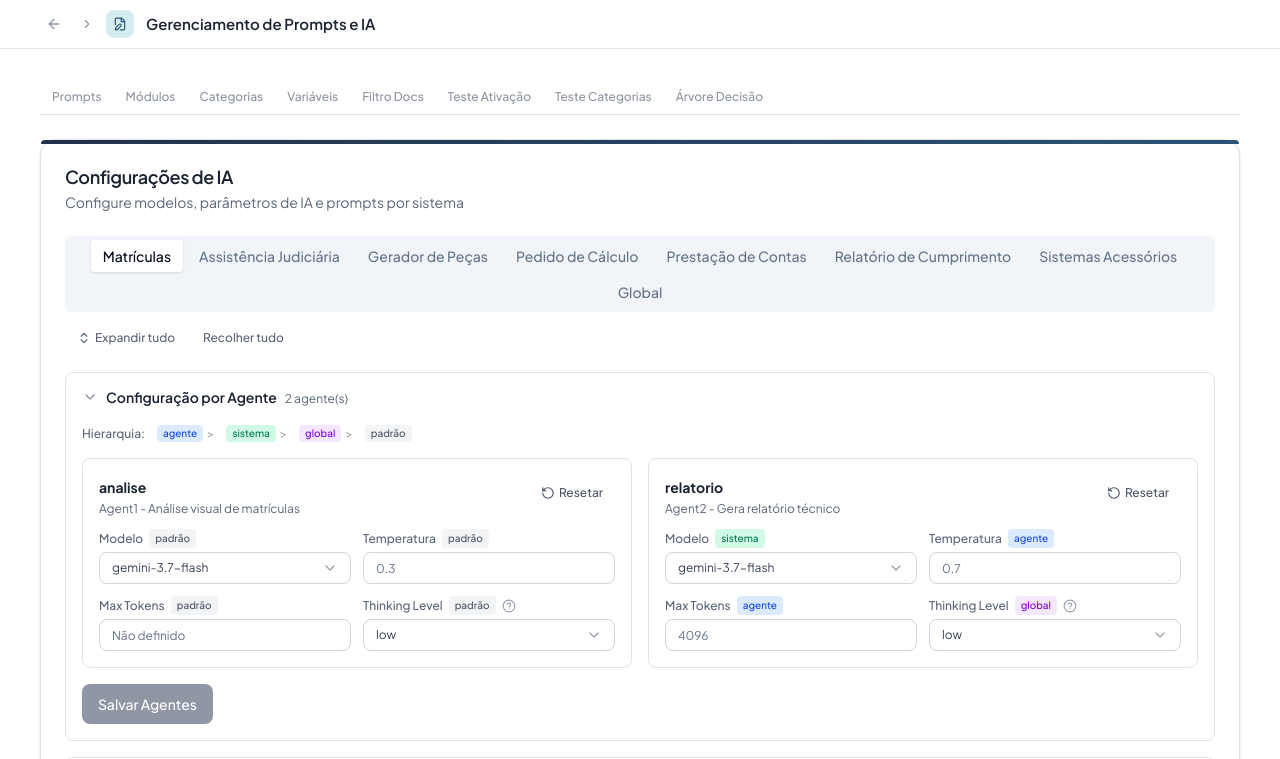
PromptsPage › não deve exibir seção de agentes na aba Global
This screenshot has width=1280, height=759.
Click the tab "Global": click(640, 292) [606, 276, 674, 308]
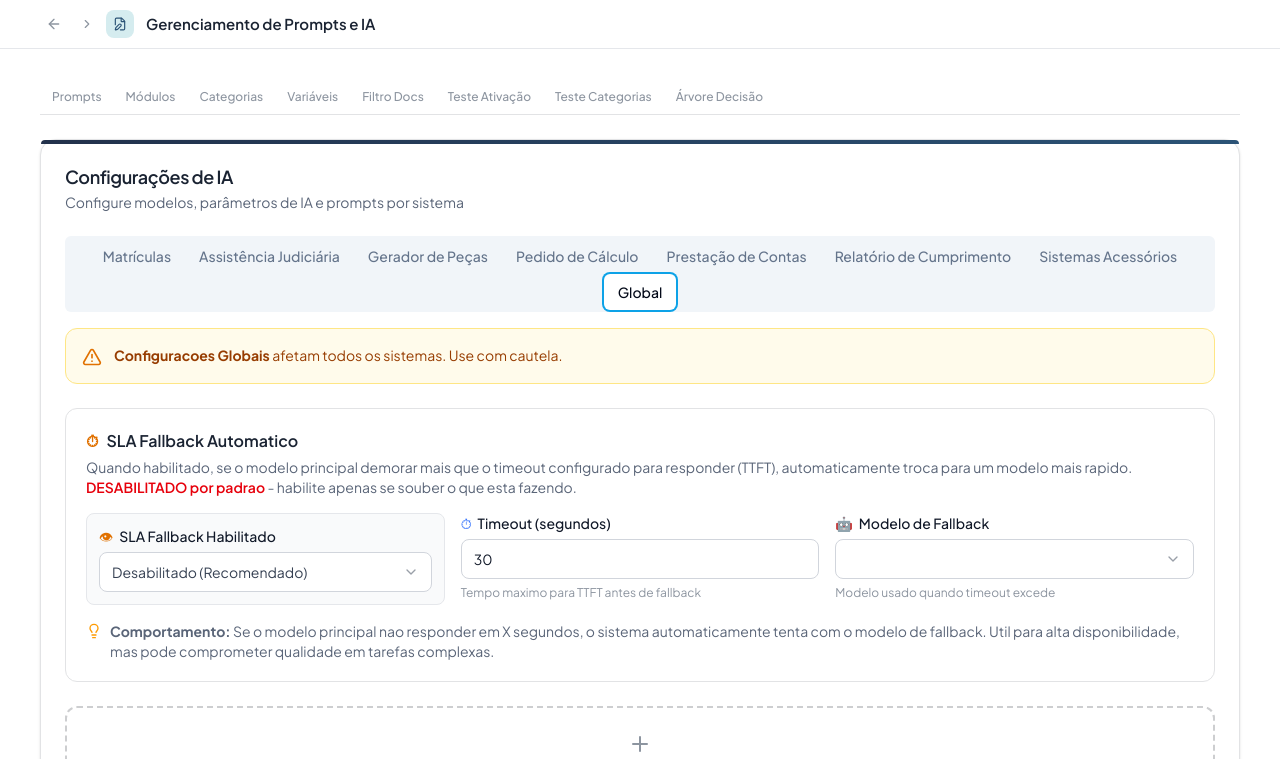
Check: the heading "⏱ SLA Fallback Automatico" is shown, box [86, 430, 298, 451]
